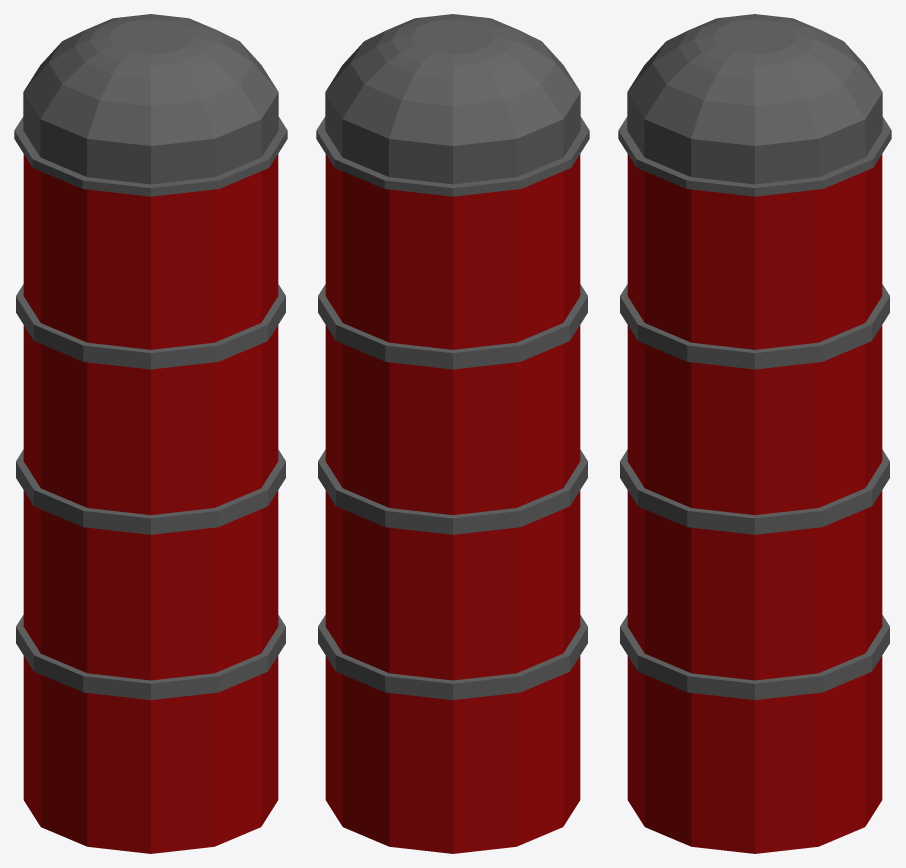
The model's file is RandomFarmThing.fbx.
The picture shows the model from 3 angles, left to right: view 1: azimuth 30°, elevation 25°; view 2: azimuth 150°, elevation 25°; view 3: azimuth 270°, elevation 25°; orthographic projection.
Visible parts, largest first — view 1: Cylinder; view 2: Cylinder; view 3: Cylinder.
Part boxes in pixels (x1,y1,x2,y2): Cylinder: [14, 14, 287, 853]; Cylinder: [316, 14, 589, 853]; Cylinder: [618, 14, 891, 853].
Size of the model in its own units: 215 by 662 by 215.
